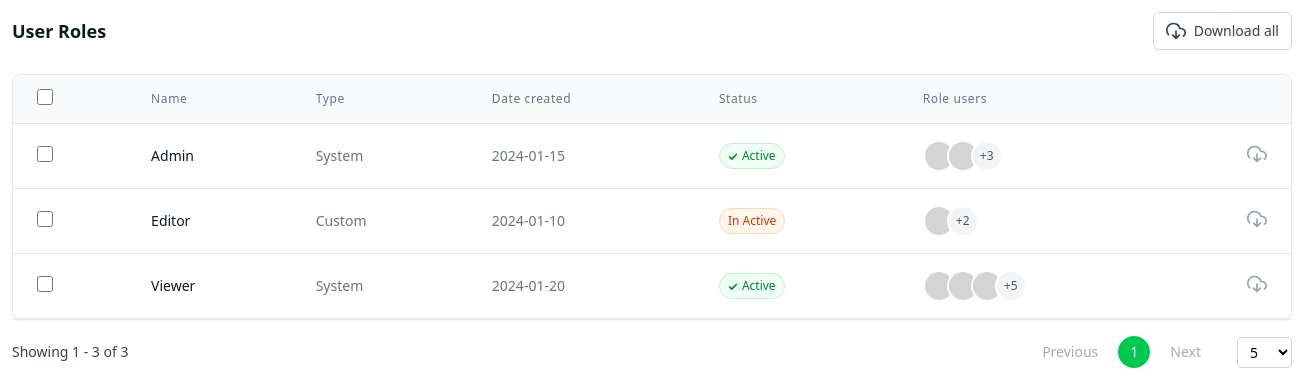
Test case: UserRoleTable › Row Selection › handles individual row selection
Expected: the text "Admin" is shown, [127,124,292,188]
Click the checkbox next to "Admin": (45, 154) [37,146,53,162]
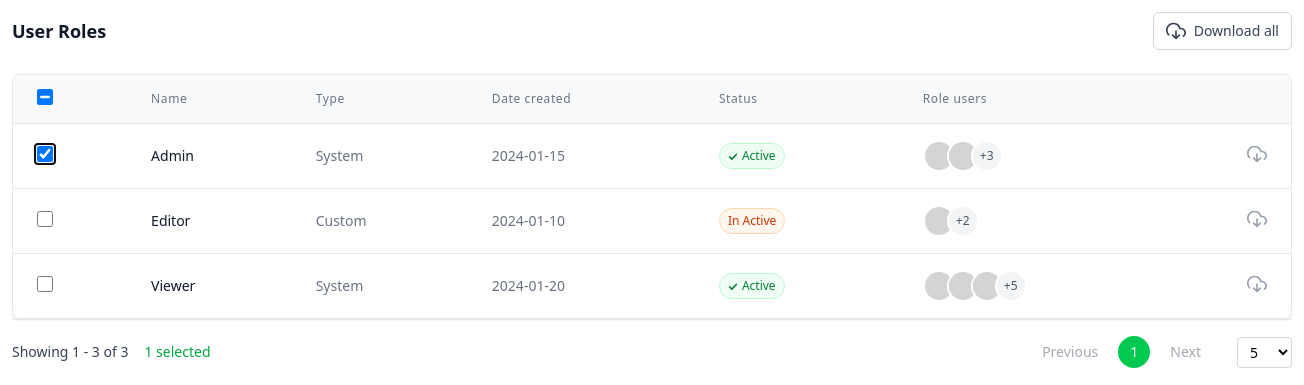
Now the text "1 selected" is shown, box [144,342,210,362]
